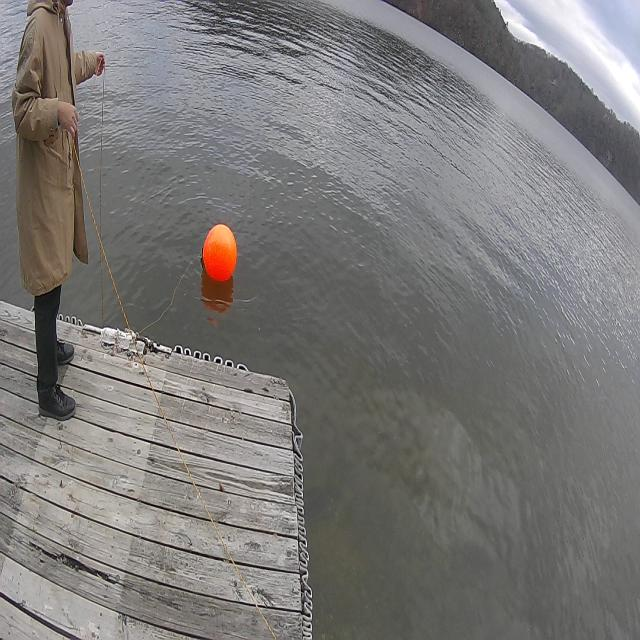Buoy: (199, 224, 238, 284)
